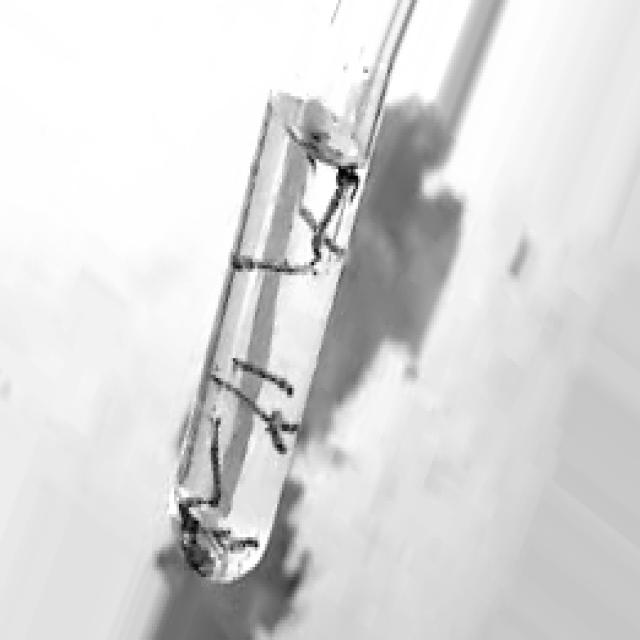larvas: (213, 371, 274, 426), (306, 183, 346, 263), (230, 353, 296, 397), (233, 255, 319, 276), (216, 525, 257, 552), (209, 418, 222, 502), (182, 494, 206, 532), (272, 412, 294, 452), (296, 200, 320, 233), (338, 168, 359, 197)
